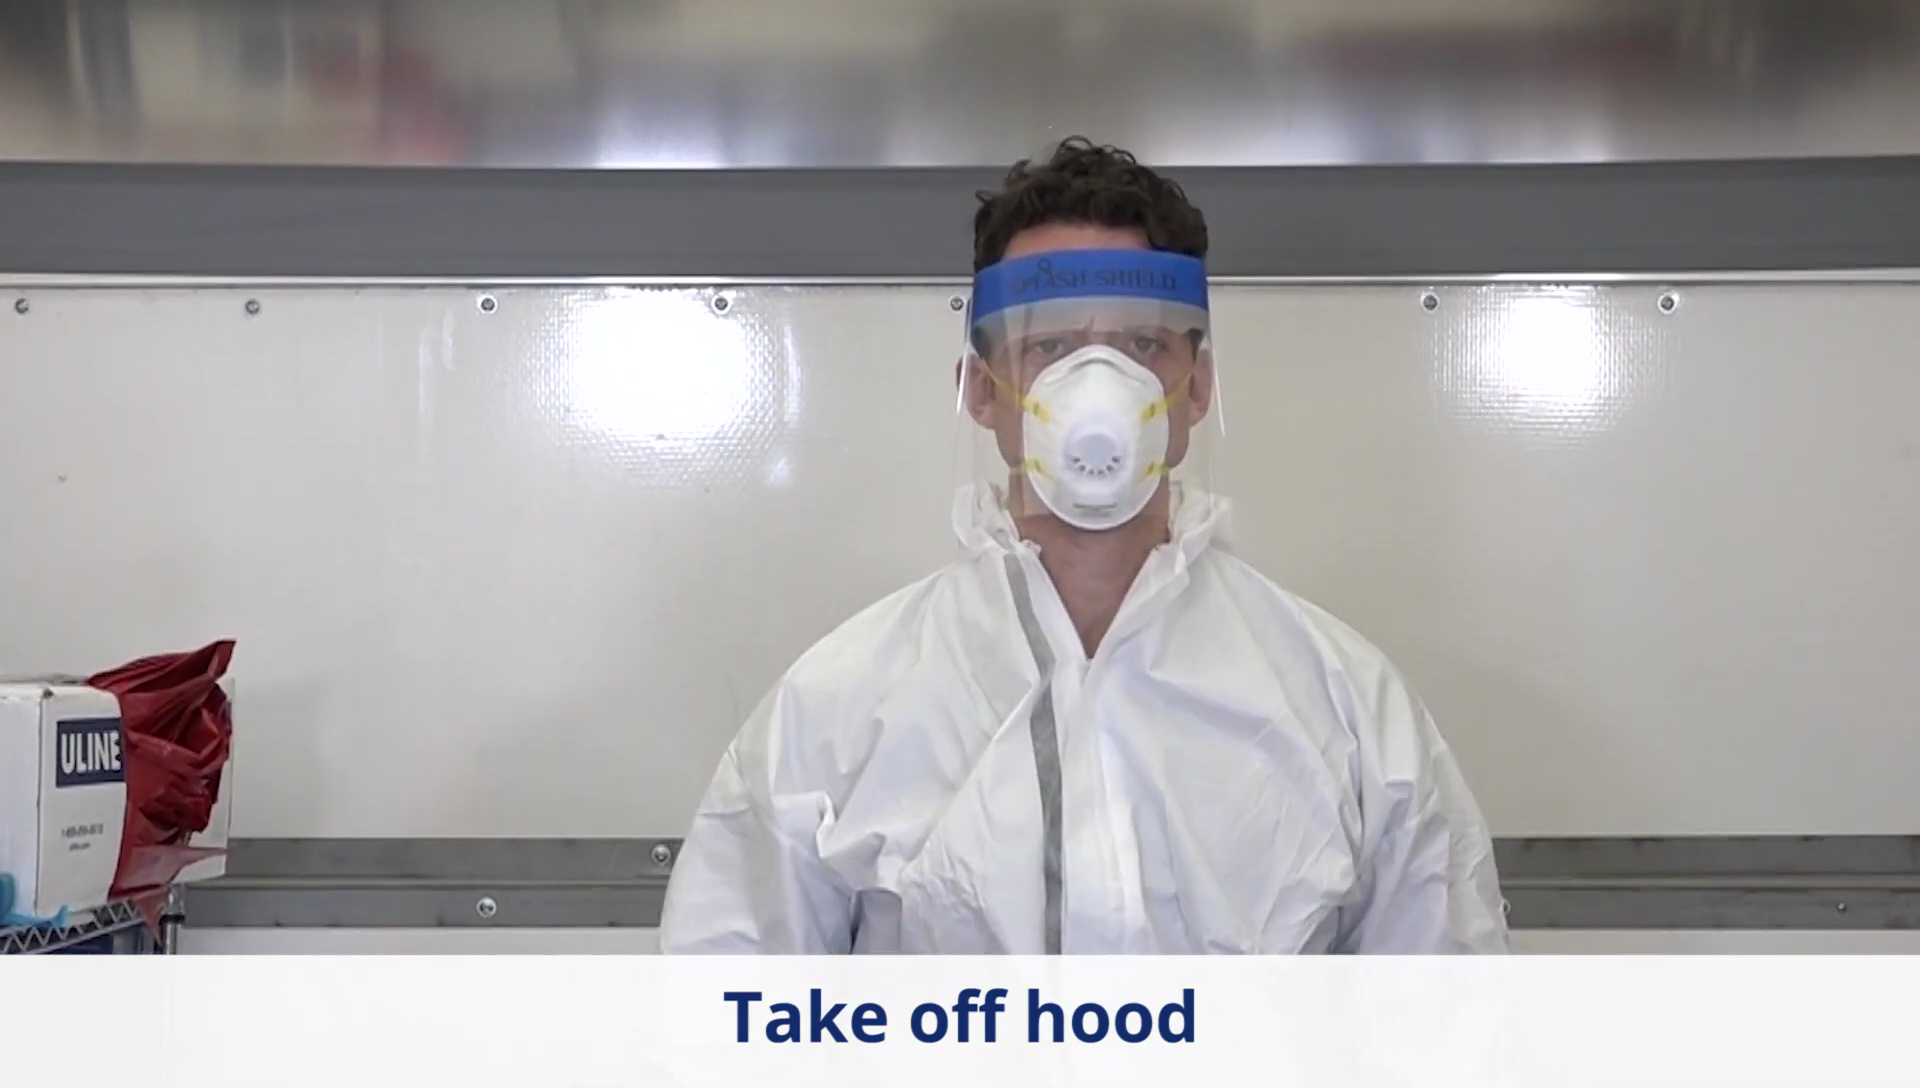Coverall: (662, 532, 1511, 951)
Face_Shield: (956, 253, 1241, 554)
with_mask: (1018, 319, 1187, 532)
